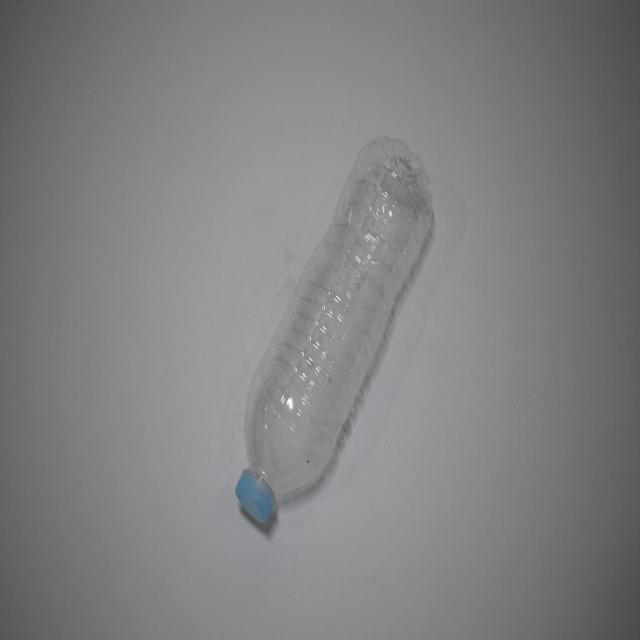empty: (236, 136, 432, 523)
